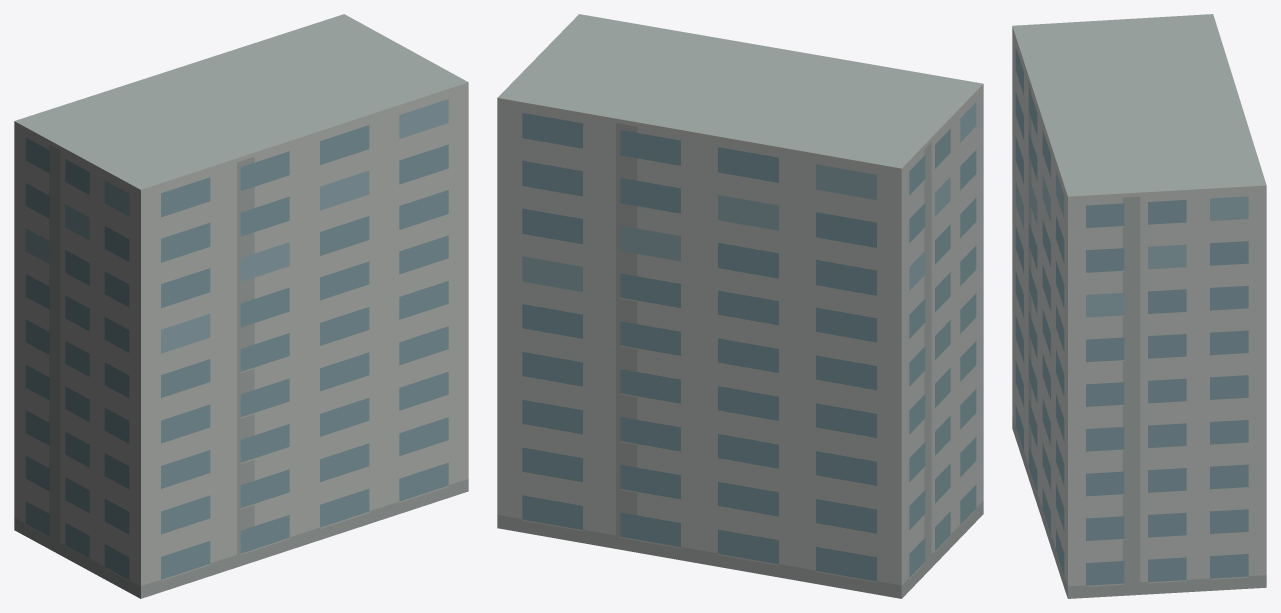
Rendered from survey-upis-32744097.glb.
The picture shows the model from 3 angles, left to right: view 1: azimuth 30°, elevation 25°; view 2: azimuth 150°, elevation 25°; view 3: azimuth 270°, elevation 25°; orthographic projection. The views are drawn at different scales.
Parts seen in each view (by area): view 1: survey-upis-32744097.tmp; view 2: survey-upis-32744097.tmp; view 3: survey-upis-32744097.tmp.
Boxes of the visible parts, x1,y1,x2,y2 form: survey-upis-32744097.tmp: (14,14,468,598); survey-upis-32744097.tmp: (497,14,983,598); survey-upis-32744097.tmp: (1012,14,1266,598).
Bounding box in the file's own units: 23.96 × 24.6 × 14.11.
